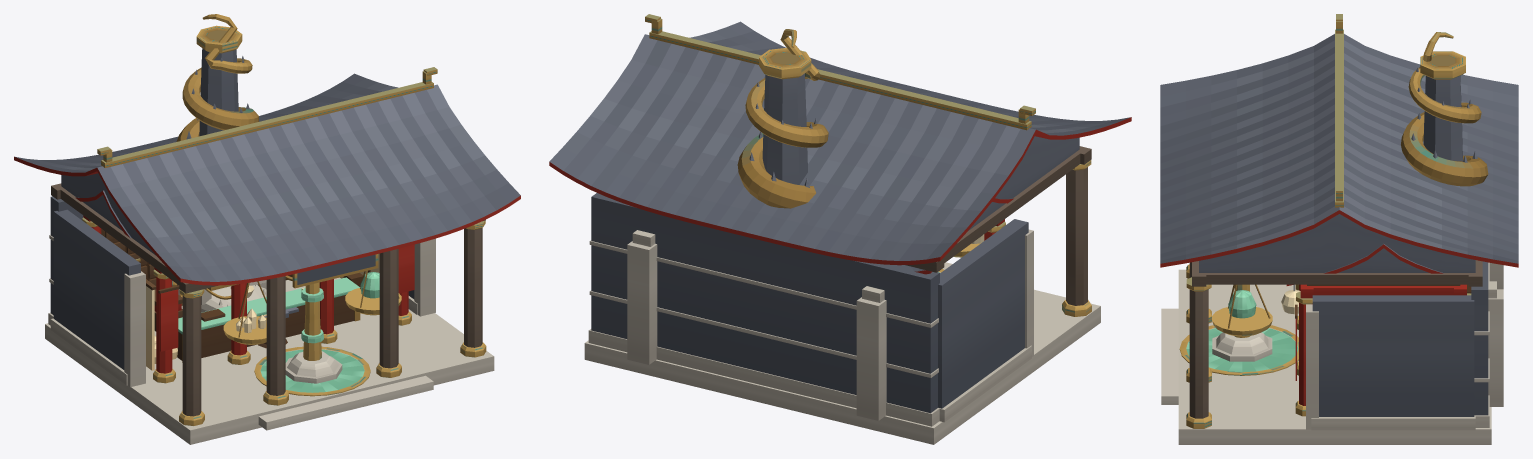
File: Yggdrasil_Shops.fbx
3 views of the same model, side by side, from view 1: azimuth 30°, elevation 25°; view 2: azimuth 150°, elevation 25°; view 3: azimuth 270°, elevation 25° (orthographic). The views are drawn at different scales.
Visible parts, largest first — view 1: YG_Blacksmith, YG_BuySell; view 2: YG_Blacksmith, YG_BuySell; view 3: YG_Blacksmith, YG_BuySell.
Boxes of the visible parts, x1=… form: YG_Blacksmith: x1=14, y1=14, x2=520, y2=444; YG_BuySell: x1=75, y1=190, x2=414, y2=405; YG_Blacksmith: x1=549, y1=14, x2=1131, y2=444; YG_BuySell: x1=910, y1=198, x2=1058, y2=324; YG_Blacksmith: x1=1160, y1=14, x2=1518, y2=444; YG_BuySell: x1=1179, y1=243, x2=1471, y2=416.
Size of the model in its own units: 39.2 by 33.78 by 33.2.
1 material, 1 textured.
